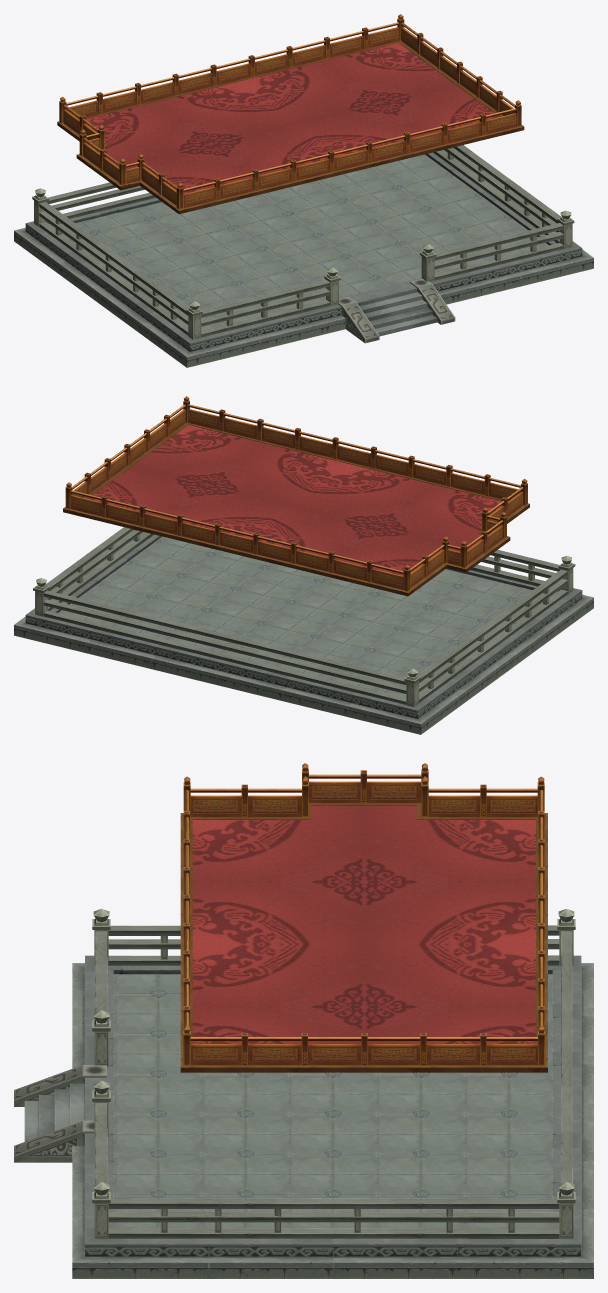
File: szc_building_jiulou18_zuo.FBX
The picture shows the model from 3 angles, top to bottom: view 1: azimuth 30°, elevation 25°; view 2: azimuth 150°, elevation 25°; view 3: azimuth 270°, elevation 25°; orthographic projection. The views are drawn at different scales.
Parts seen in each view (by area): view 1: szc_building_jiulou18_zuo; view 2: szc_building_jiulou18_zuo; view 3: szc_building_jiulou18_zuo.
Boxes of the visible parts, x1,y1,x2,y2 form: szc_building_jiulou18_zuo: (14,14,593,367); szc_building_jiulou18_zuo: (14,396,593,734); szc_building_jiulou18_zuo: (14,763,593,1278).
Size of the model in its own units: 756 by 267 by 619.
